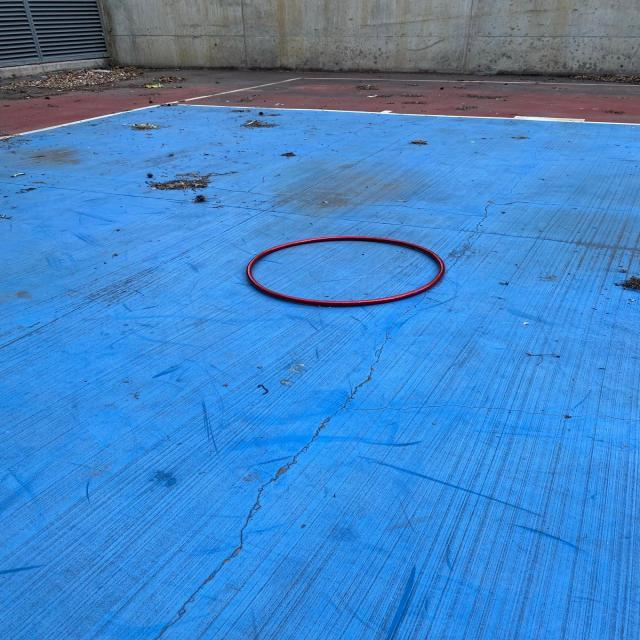Circle: (245, 234, 444, 307)
